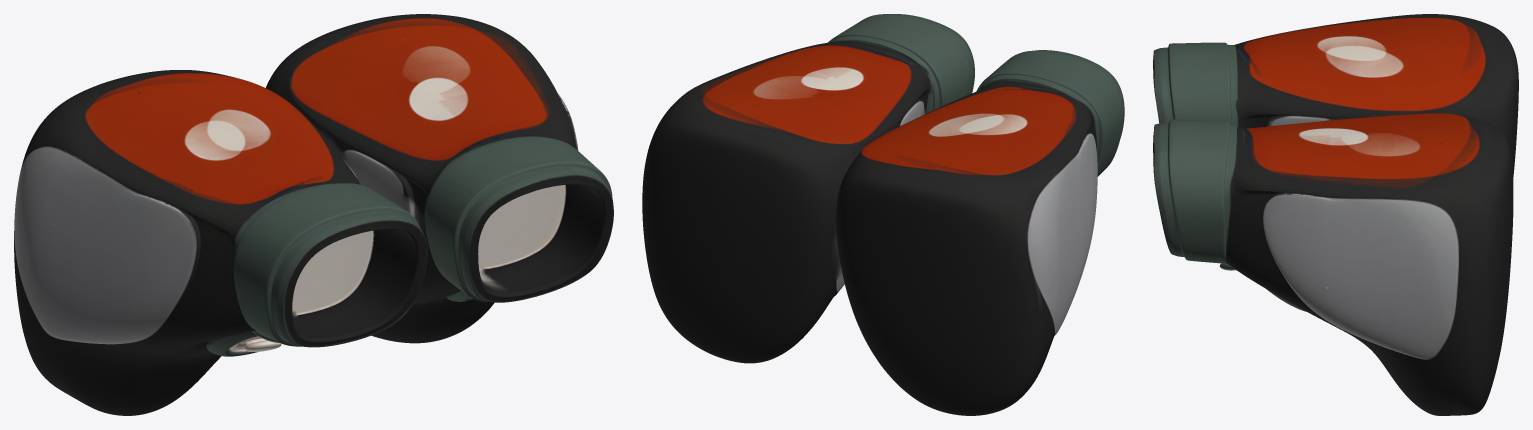
The model's file is focus_mitts_pair__hunyuan.glb.
The picture shows the model from 3 angles, left to right: view 1: azimuth 30°, elevation 25°; view 2: azimuth 150°, elevation 25°; view 3: azimuth 270°, elevation 25°; orthographic projection. The views are drawn at different scales.
Visible parts, largest first — view 1: material; view 2: material; view 3: material.
Part boxes in pixels (x1,y1,x2,y2): material: (14, 14, 613, 415); material: (642, 14, 1124, 415); material: (1153, 14, 1518, 415).
Size of the model in its own units: 1.02 by 0.5969 by 0.7721.
Materials: 1 (1 with a texture image).
